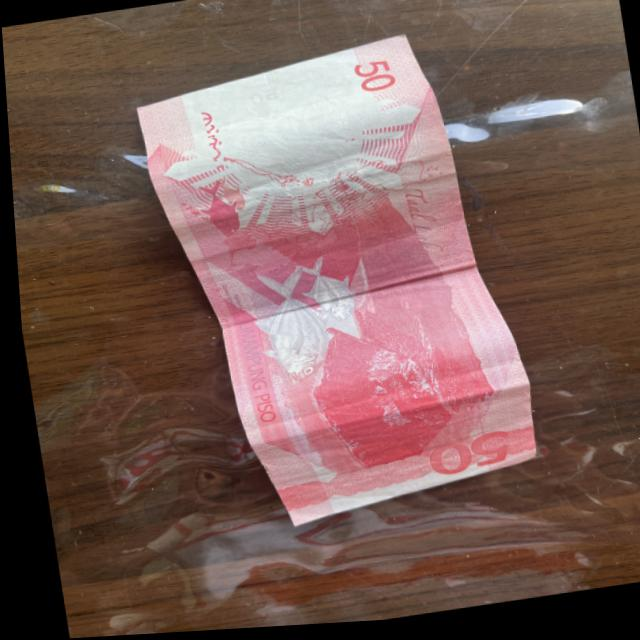50_maliputo: (221, 246, 381, 397)
50_maliputo_watermark: (182, 177, 265, 250)
value_watermark: (240, 85, 284, 119)
